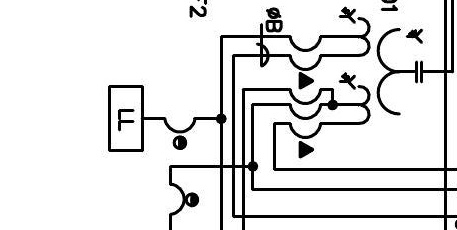115_cvt_3p: (338, 6, 423, 126)
LL: (108, 85, 144, 152)
